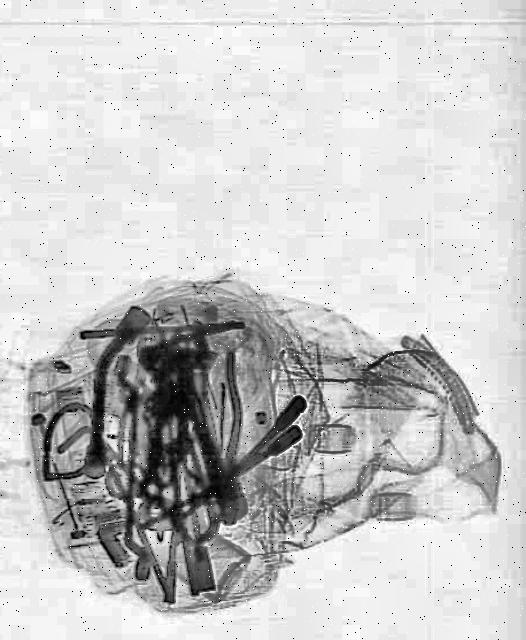Pliers: (187, 347, 259, 527)
